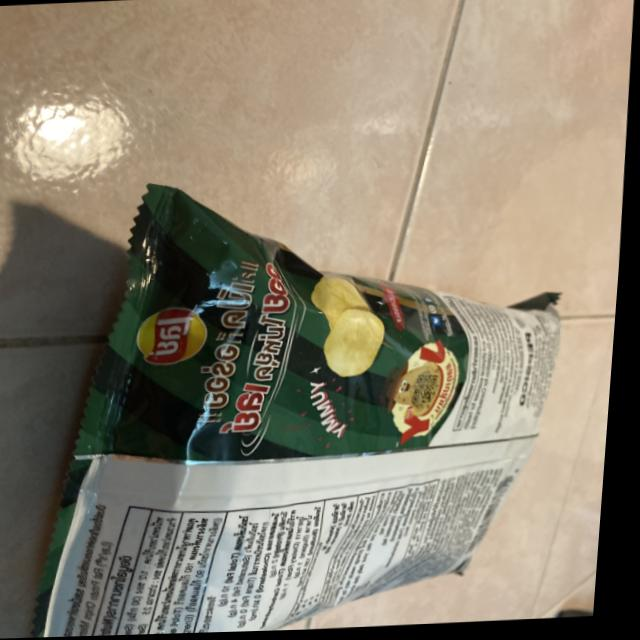Laygreen: (13, 153, 582, 639)
